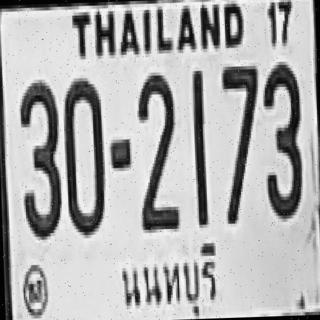N00: (63, 78, 106, 236)
N01: (190, 69, 206, 226)
N02: (135, 70, 177, 228)
N03: (18, 80, 62, 238), (260, 61, 303, 216)
N07: (220, 62, 262, 220)
P37: (114, 236, 216, 320)
